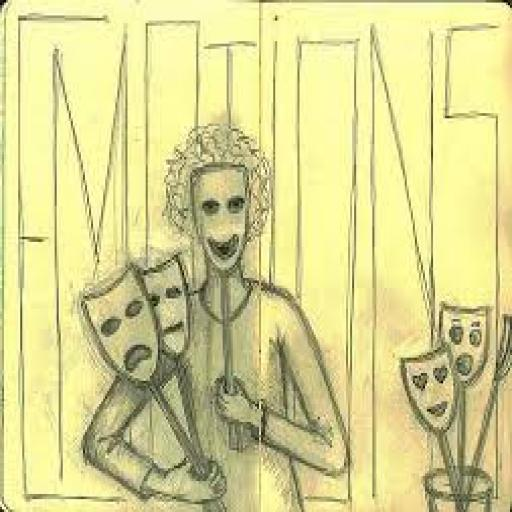person: (74, 120, 348, 510), (399, 282, 512, 510)
